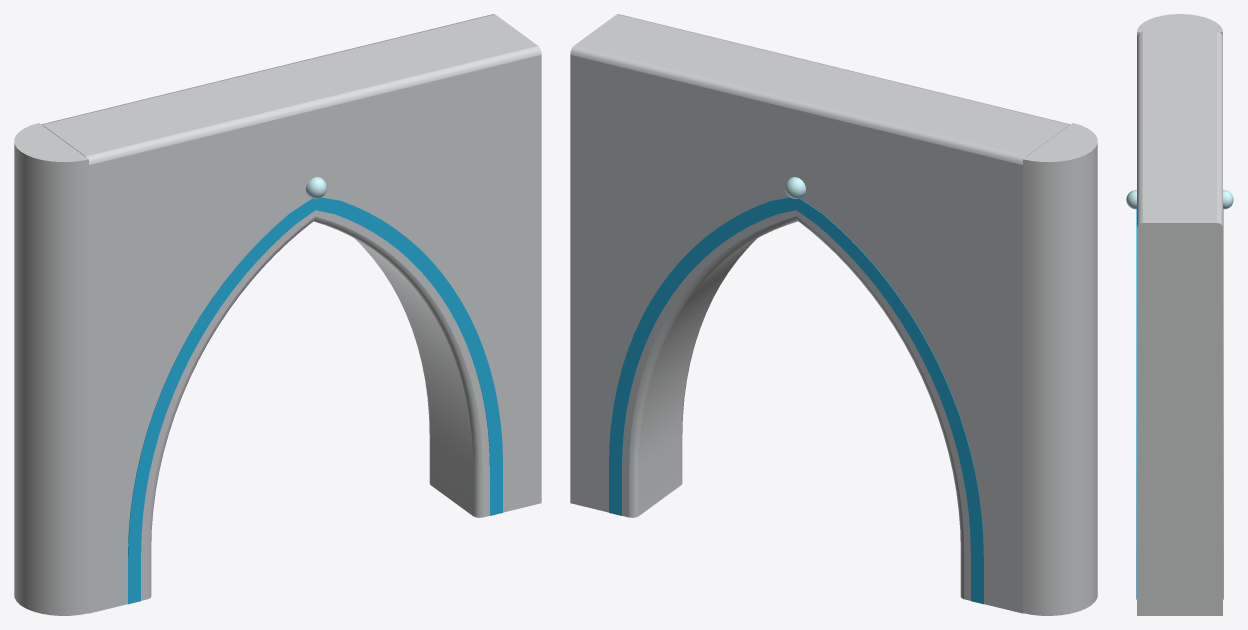
File: Arch_D06_GothicPearl.fbx
The picture shows the model from 3 angles, left to right: view 1: azimuth 30°, elevation 25°; view 2: azimuth 150°, elevation 25°; view 3: azimuth 270°, elevation 25°; orthographic projection. The views are drawn at different scales.
Parts seen in each view (by area): view 1: Arch_D06_GothicPearl; view 2: Arch_D06_GothicPearl; view 3: Arch_D06_GothicPearl.
Part boxes in pixels (x1,y1,x2,y2): Arch_D06_GothicPearl: (14,14,541,615); Arch_D06_GothicPearl: (570,14,1097,615); Arch_D06_GothicPearl: (1126,14,1233,615).
Size of the model in its own units: 2.29 by 2.01 by 0.498.
